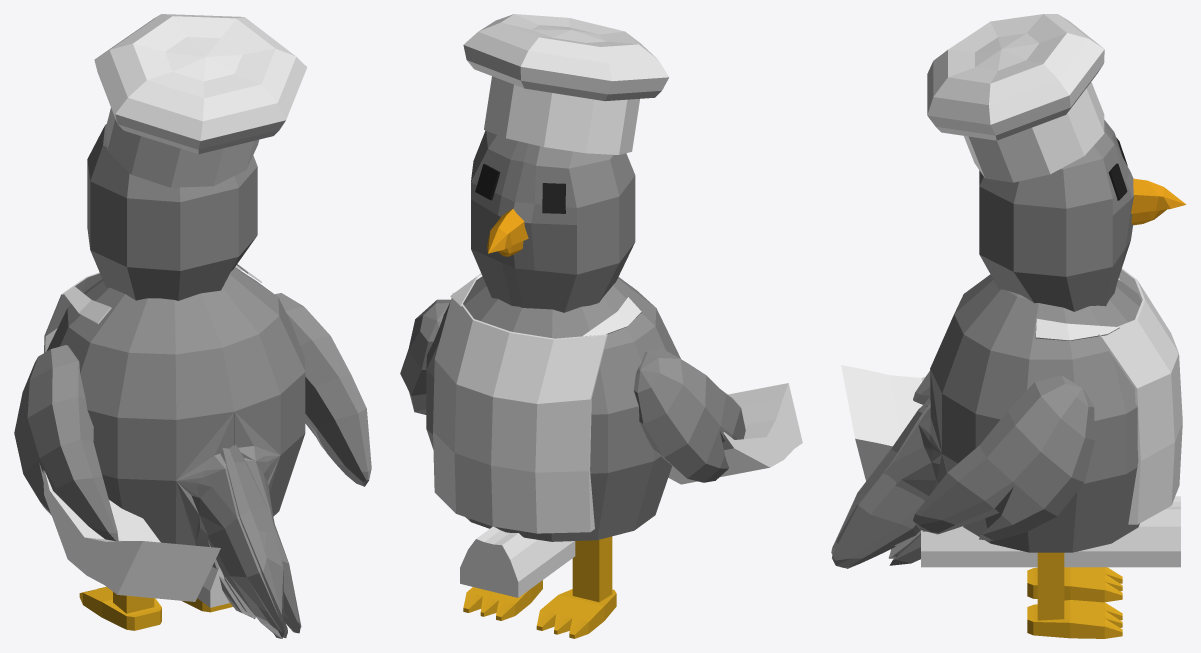
The model's file is PombDj.fbx.
The picture shows the model from 3 angles, left to right: view 1: azimuth 30°, elevation 25°; view 2: azimuth 150°, elevation 25°; view 3: azimuth 270°, elevation 25°; orthographic projection. The views are drawn at different scales.
Visible parts, largest first — view 1: Sphere.006, Sphere.001, Sphere.004, Sphere, Cube.005, Sphere.005, Cube.007, Cube.004, Cube.002, Cube.006; view 2: Cube.002, Sphere, Sphere.006, Sphere.001, Sphere.004, Cube.006, Cube.005, Cube.007, Cube.004, Cone.001, Cube, Cube.001; view 3: Sphere.006, Sphere.001, Sphere, Sphere.004, Cube.002, Cube.006, Sphere.005, Cube.005, Cube.007, Cone.001, Cube.004.
Boxes of the visible parts, <box> form: Sphere.006: <box>46,267,305,638</box>; Sphere.001: <box>94,14,307,187</box>; Sphere.004: <box>14,293,371,541</box>; Sphere: <box>87,124,257,300</box>; Cube.005: <box>43,470,220,601</box>; Sphere.005: <box>220,444,301,637</box>; Cube.007: <box>79,586,232,630</box>; Cube.004: <box>64,264,261,324</box>; Cube.002: <box>44,272,102,352</box>; Cube.006: <box>197,563,229,607</box>; Cube.002: <box>433,292,607,533</box>; Sphere: <box>471,130,635,312</box>; Sphere.006: <box>426,276,680,602</box>; Sphere.001: <box>463,14,669,154</box>; Sphere.004: <box>400,299,745,482</box>; Cube.006: <box>460,526,575,597</box>; Cube.005: <box>668,383,802,484</box>; Cube.007: <box>463,580,616,638</box>; Cube.004: <box>450,273,641,336</box>; Cone.001: <box>487,209,528,253</box>; Cube: <box>542,183,565,213</box>; Cube.001: <box>475,164,500,200</box>; Sphere.006: <box>831,274,1141,620</box>; Sphere.001: <box>927,14,1104,182</box>; Sphere: <box>979,120,1133,311</box>; Sphere.004: <box>913,371,1094,540</box>; Cube.002: <box>1098,268,1182,524</box>; Cube.006: <box>921,496,1180,567</box>; Sphere.005: <box>831,397,930,568</box>; Cube.005: <box>841,365,925,480</box>; Cube.007: <box>1027,567,1122,638</box>; Cone.001: <box>1131,178,1186,213</box>; Cube.004: <box>1035,318,1119,340</box>.
Bounding box in the file's own units: 299 × 526 × 293.
